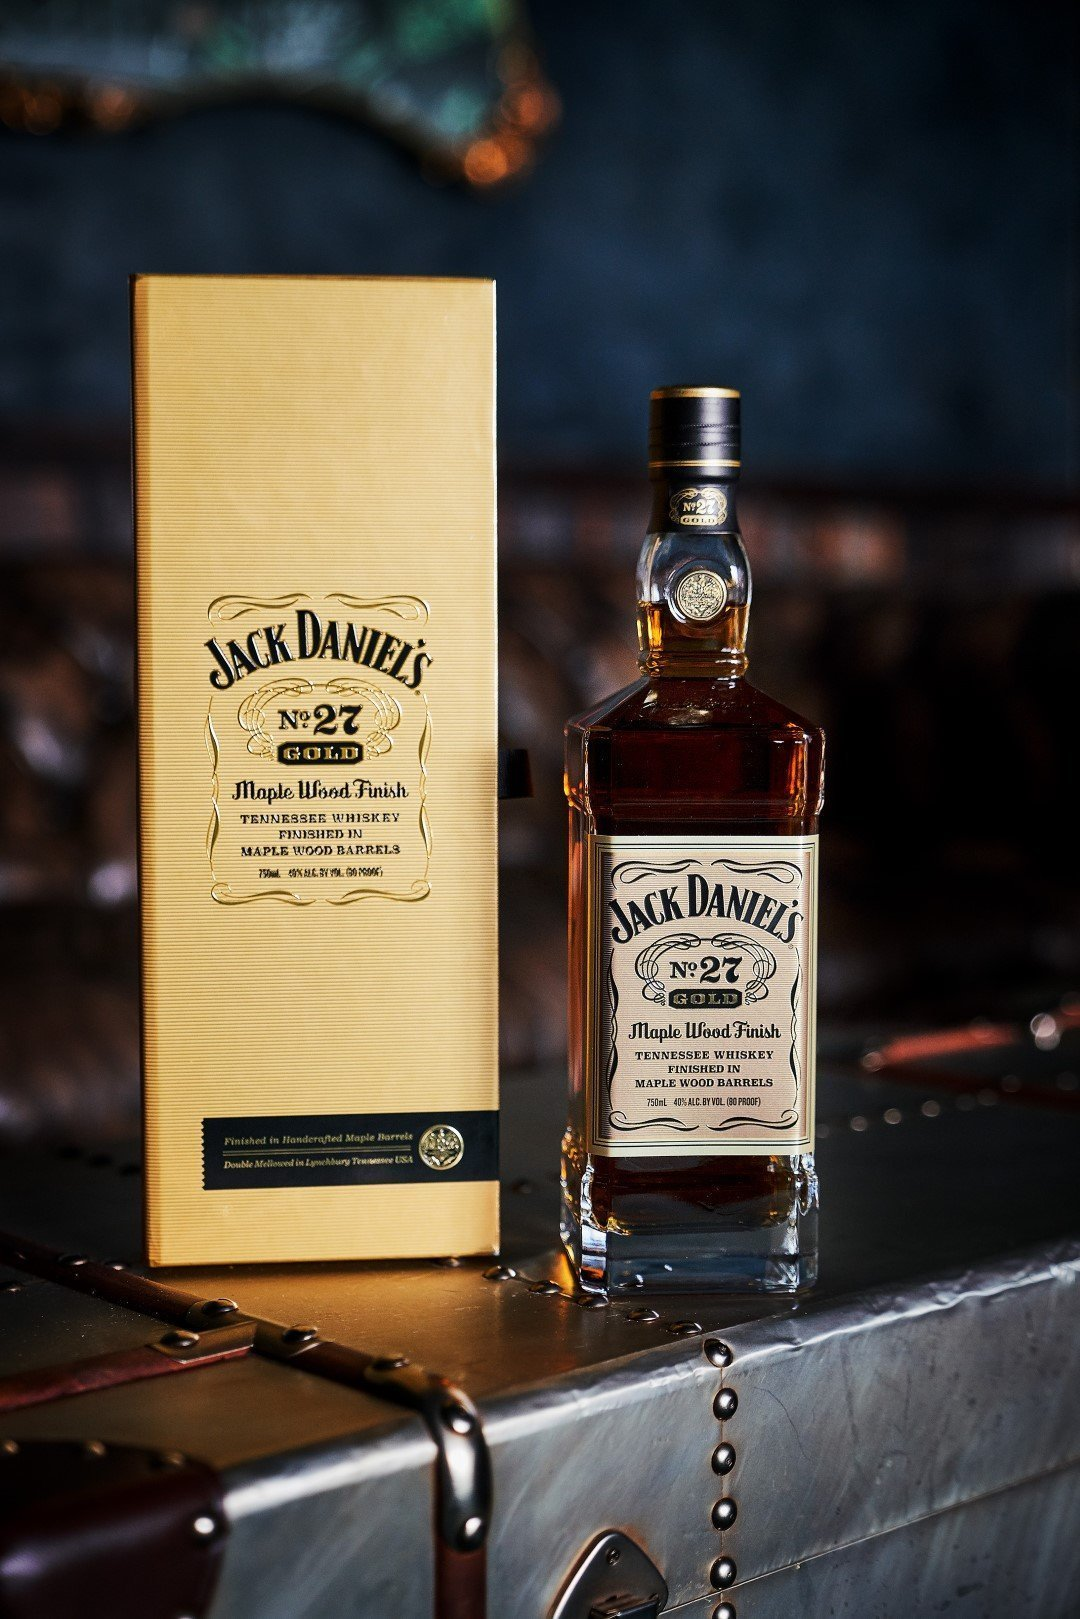Jack Daniel: (530, 362, 856, 1336)
